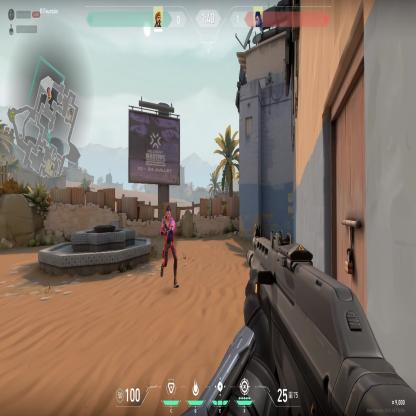enemy: (158, 200, 182, 294)
